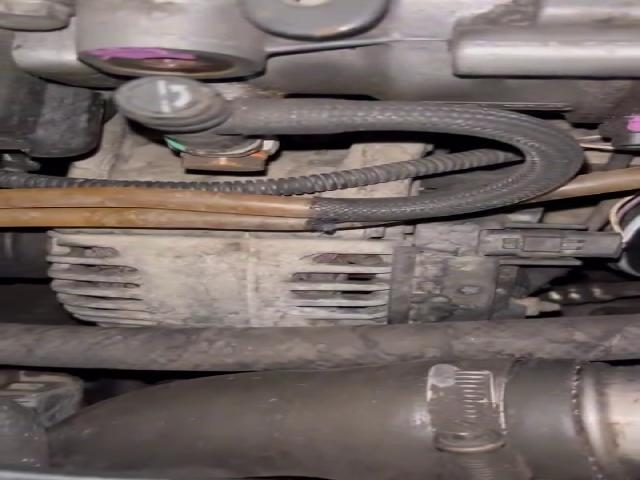alternator: (46, 209, 627, 327)
high_pressure_pump: (0, 0, 636, 151)
